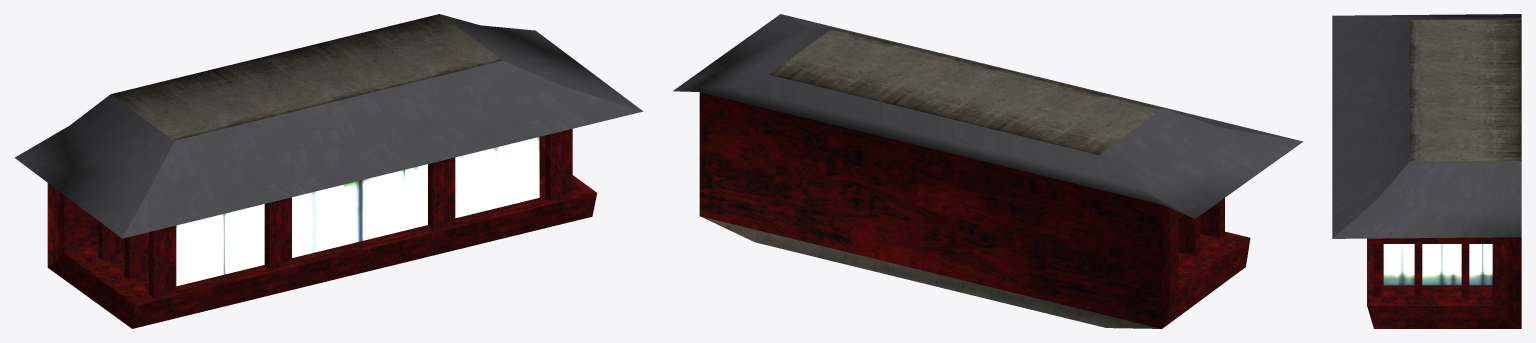
Rendered from Wall_Module_06.glb.
3 views of the same model, side by side, from view 1: azimuth 30°, elevation 25°; view 2: azimuth 150°, elevation 25°; view 3: azimuth 270°, elevation 25° (orthographic). The views are drawn at different scales.
Visible parts, largest first — view 1: Wall_Module_06; view 2: Wall_Module_06; view 3: Wall_Module_06.
Boxes of the visible parts, x1=… form: Wall_Module_06: x1=15, y1=14, x2=643, y2=328; Wall_Module_06: x1=673, y1=14, x2=1303, y2=328; Wall_Module_06: x1=1332, y1=14, x2=1521, y2=328.
Bounding box in the file's own units: 2.23 × 0.6977 × 0.8001.
1 material, 1 textured.
